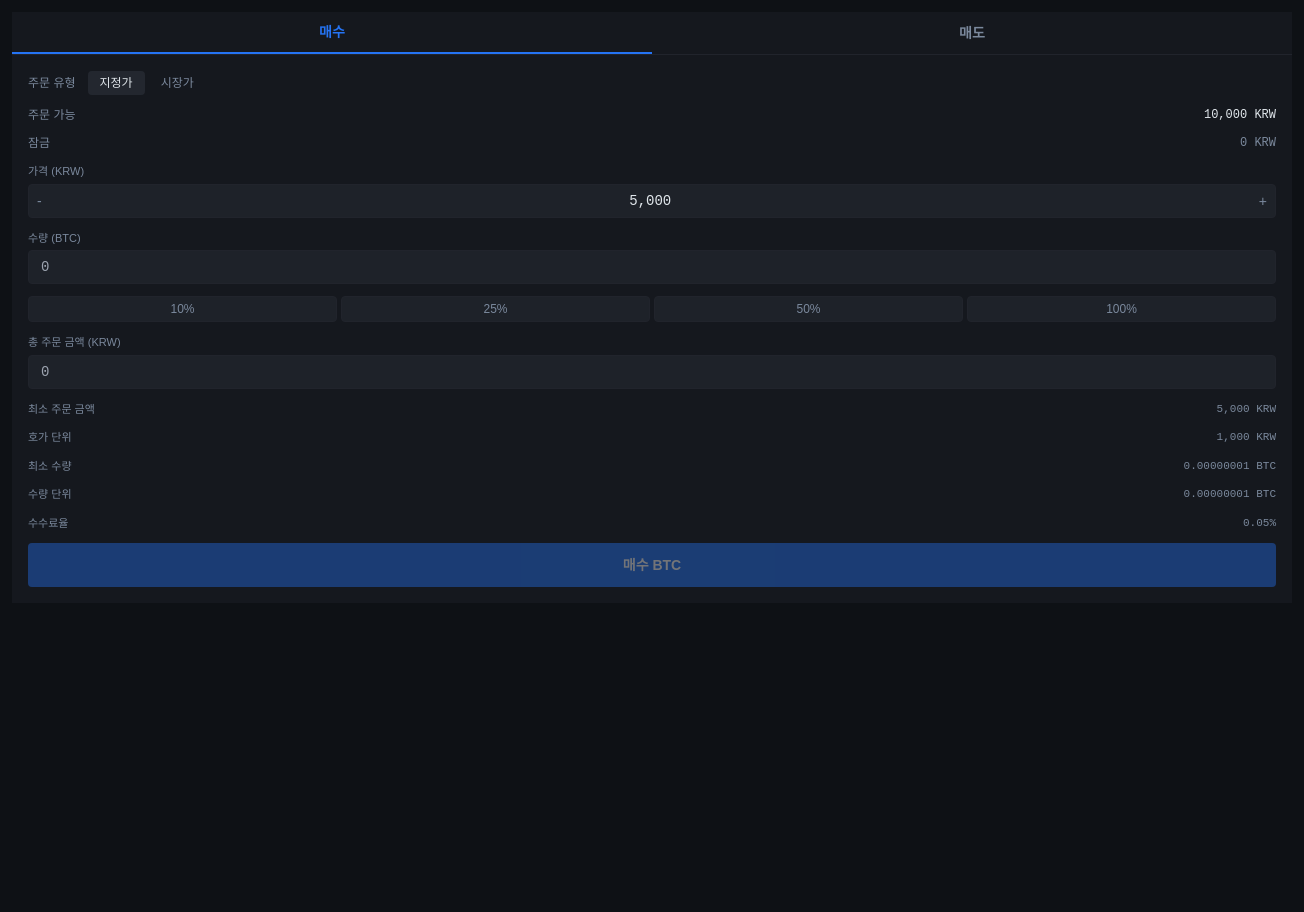
OrderForm idempotency key lifecycle › tells the user to check the order status for an UNKNOWN 503
Step 1. Type "1" into the field with test id "order-amount" → (652, 267), box [28,250,1276,284]
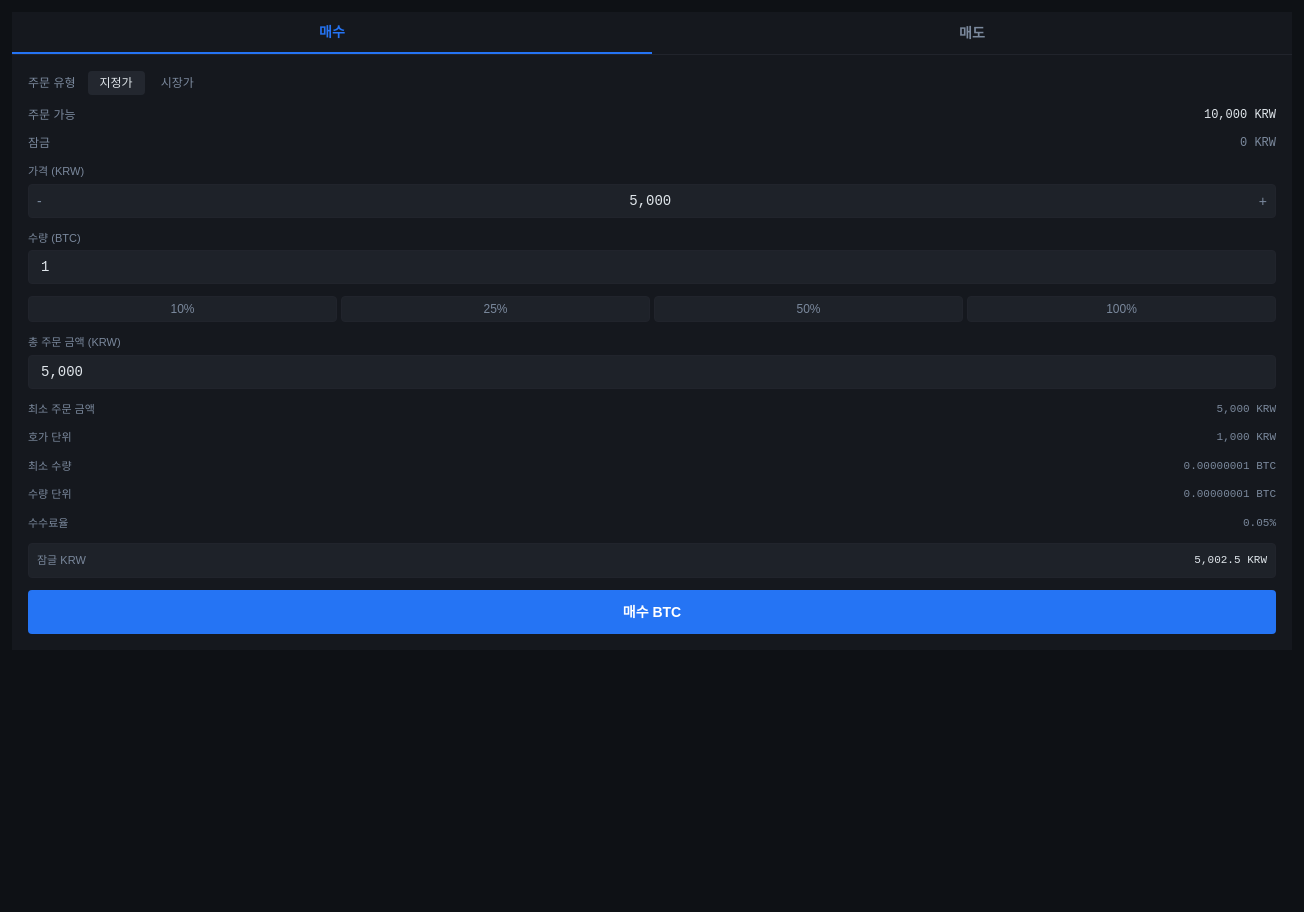
Step 2. Click the button with test id "submit-order" → click(652, 612), box [28,590,1276,634]
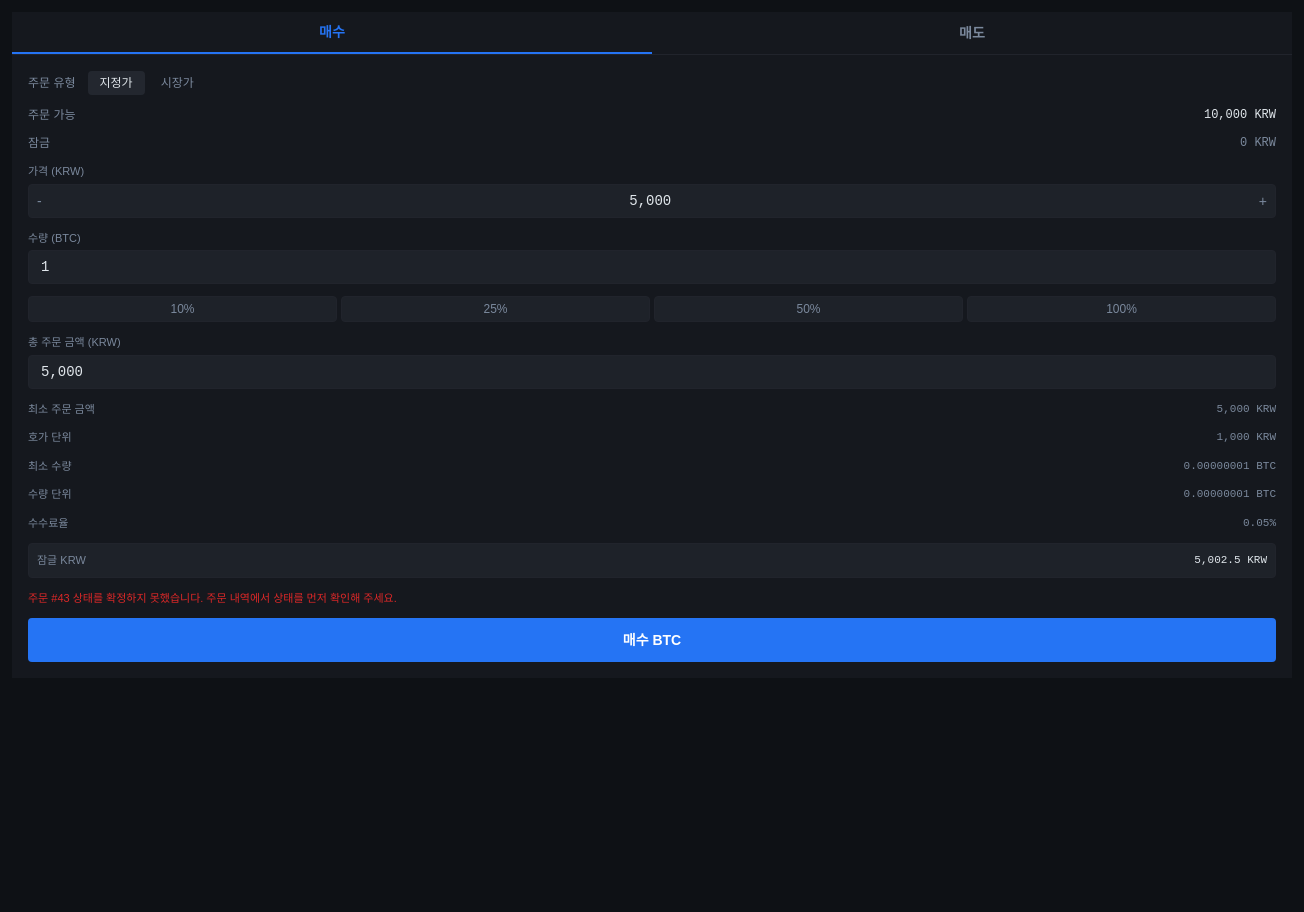
Now the text with test id "order-error" shows "주문 #43", box [28,592,397,604]
Now the text with test id "order-error" shows "상태를 먼저 확인", box [28,592,397,604]
